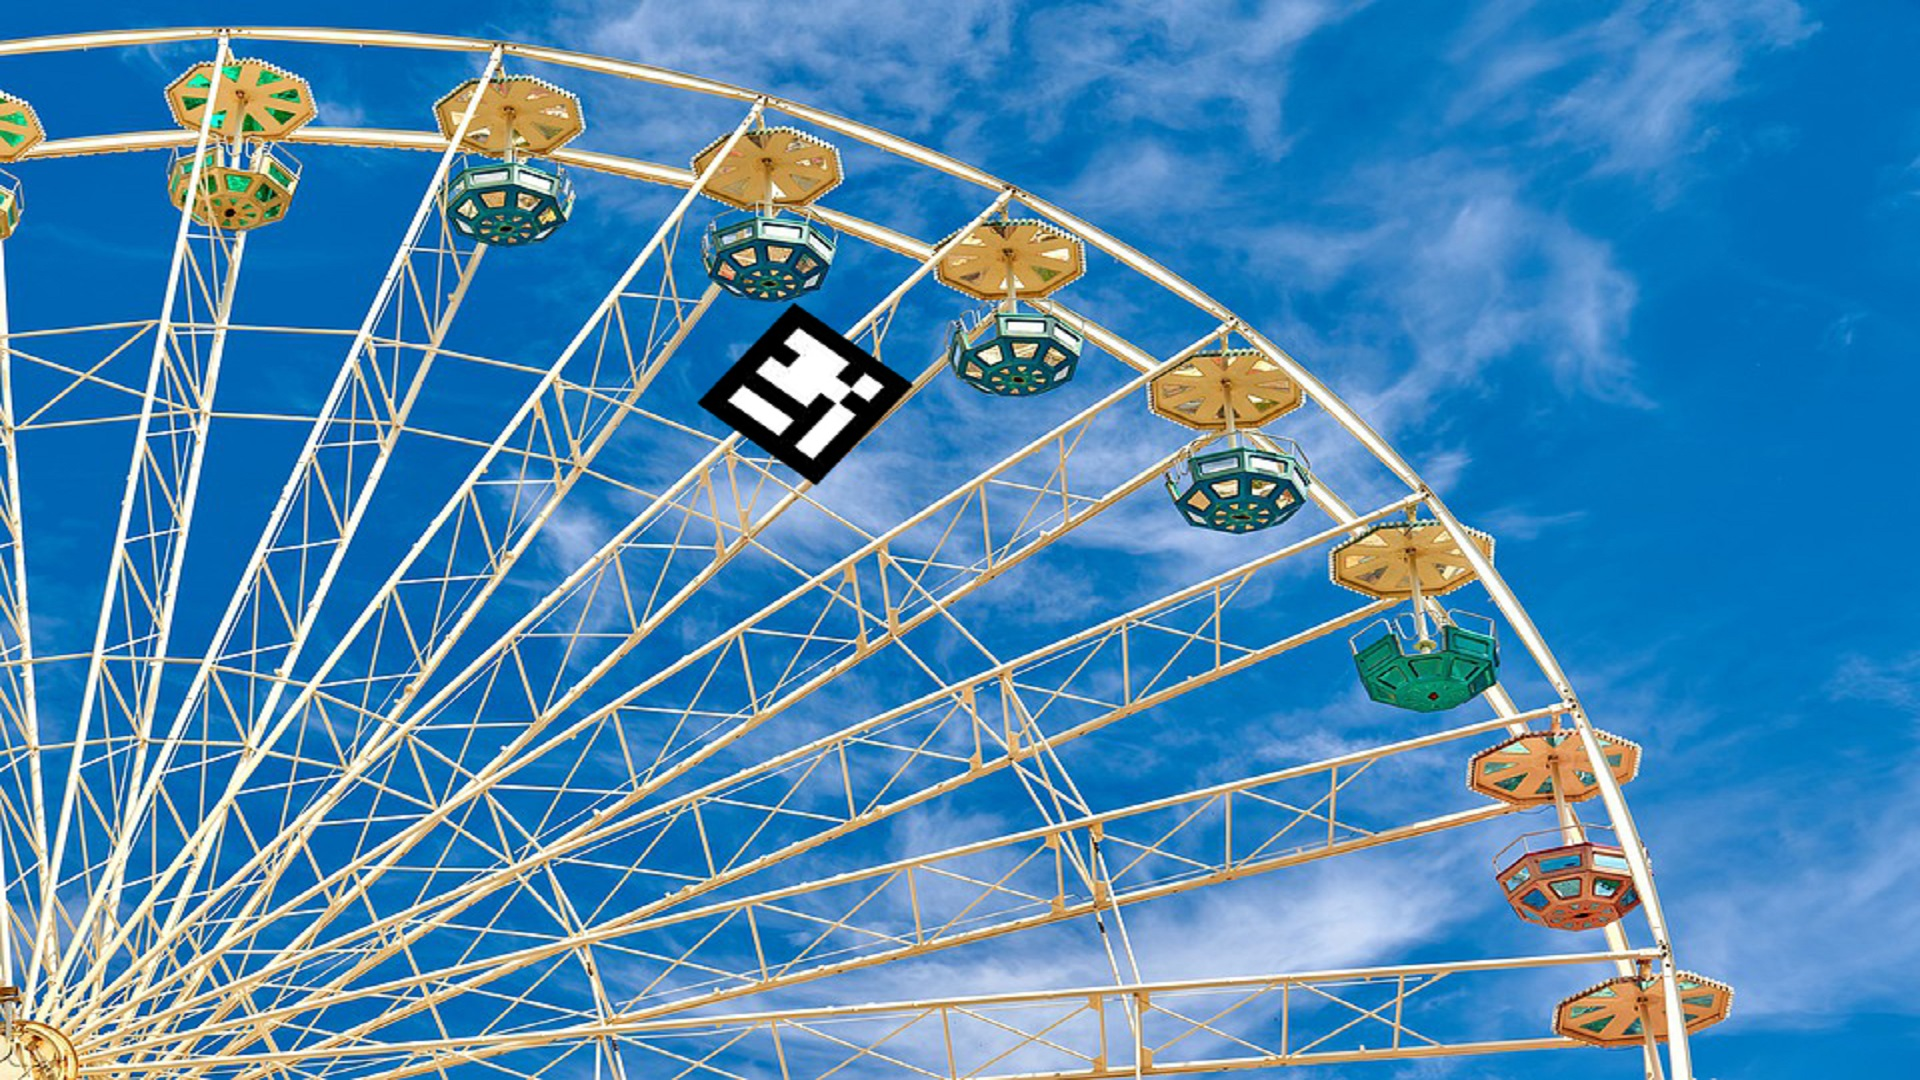marker: (694, 305, 916, 491)
